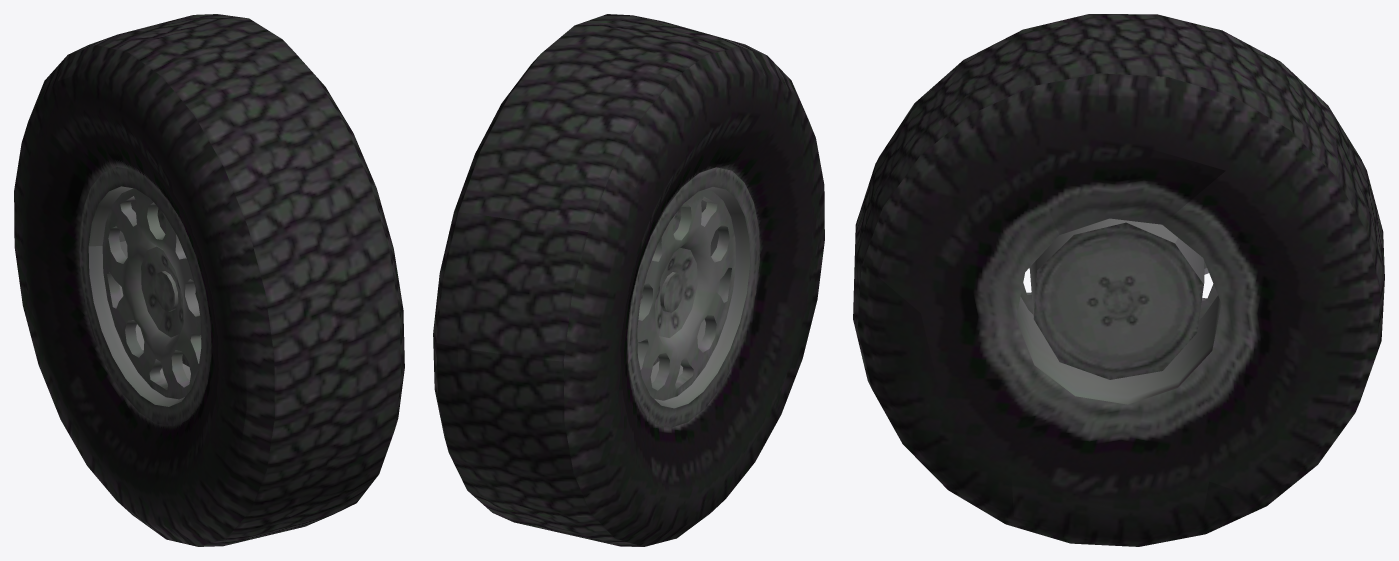
File: Yellow_Bull_Jeep_Wheel-1.fbx
3 renders of one model, left to right at view 1: azimuth 30°, elevation 25°; view 2: azimuth 150°, elevation 25°; view 3: azimuth 270°, elevation 25°, orthographic.
Parts seen in each view (by area): view 1: Yellow_Bull_Jeep_Wheel_1; view 2: Yellow_Bull_Jeep_Wheel_1; view 3: Yellow_Bull_Jeep_Wheel_1.
Part boxes in pixels (bbox=[...]): Yellow_Bull_Jeep_Wheel_1: bbox=[14, 14, 404, 546]; Yellow_Bull_Jeep_Wheel_1: bbox=[433, 14, 824, 546]; Yellow_Bull_Jeep_Wheel_1: bbox=[853, 14, 1384, 546].
Size of the model in its own units: 33.41 by 88 by 88.06.
1 material, 1 textured.
